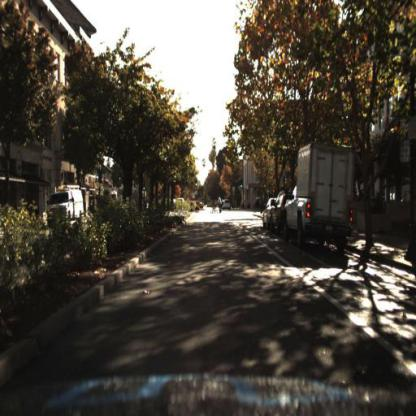car: (285, 138, 355, 254), (46, 186, 85, 230), (270, 190, 295, 234), (262, 197, 276, 235)
pedestrian: (209, 195, 225, 216), (210, 199, 224, 217)
trafficLight-Green: (238, 175, 245, 193)
truck: (280, 138, 357, 256)
